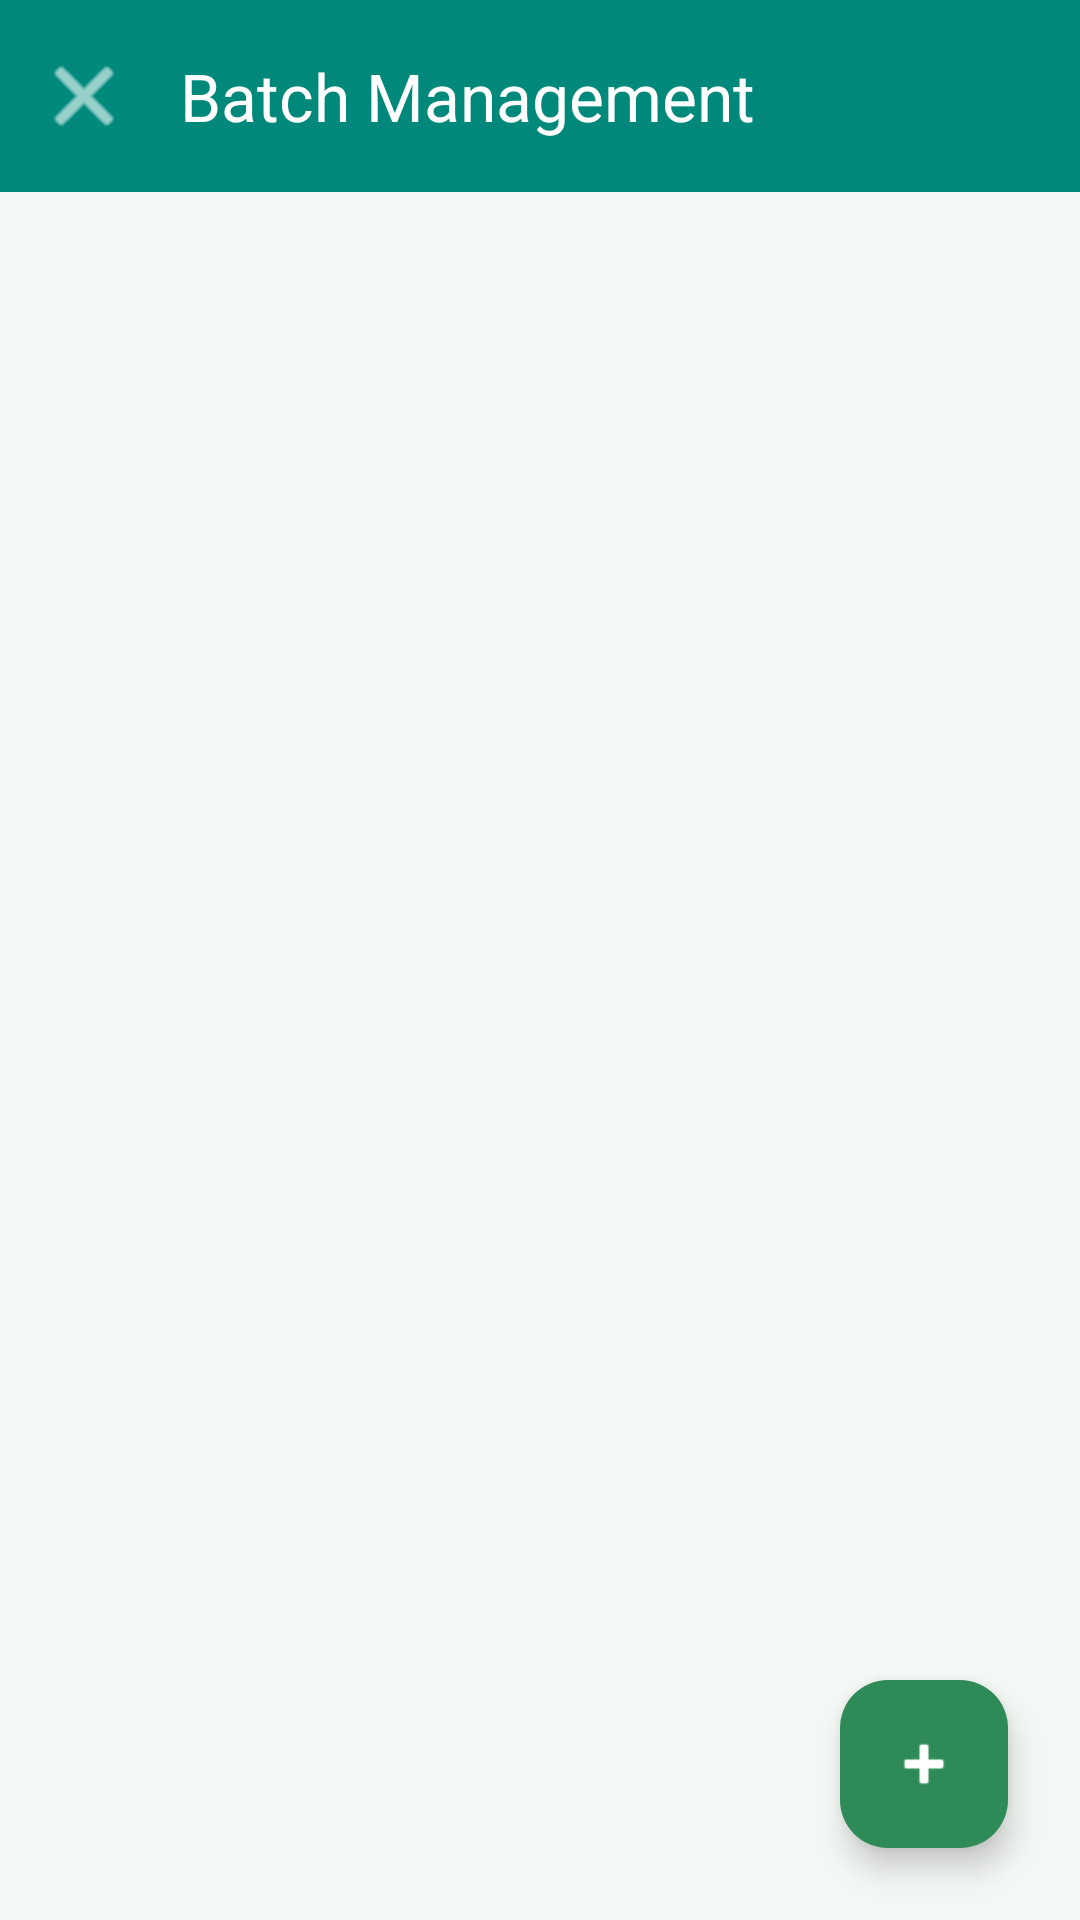

Screen size 1080px×1920px. Icon name, then its center in pixels as (x,y):
Create Batch: (924,1764)
